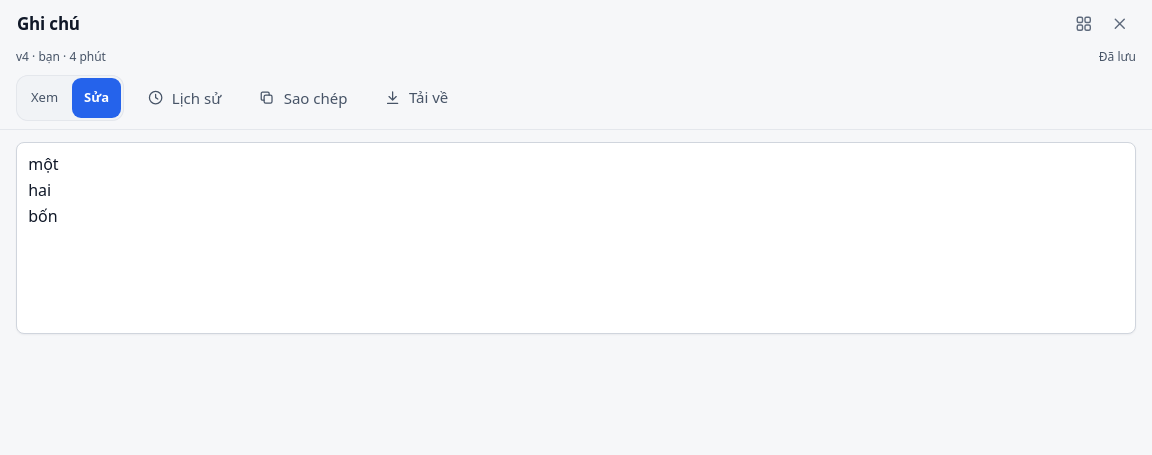
it: the versions of a canvas › lists each version, the newest first, and compares one with the version listed before it
Click the button "Lịch sử" at coordinates (184, 98), box [132,80,236,116]
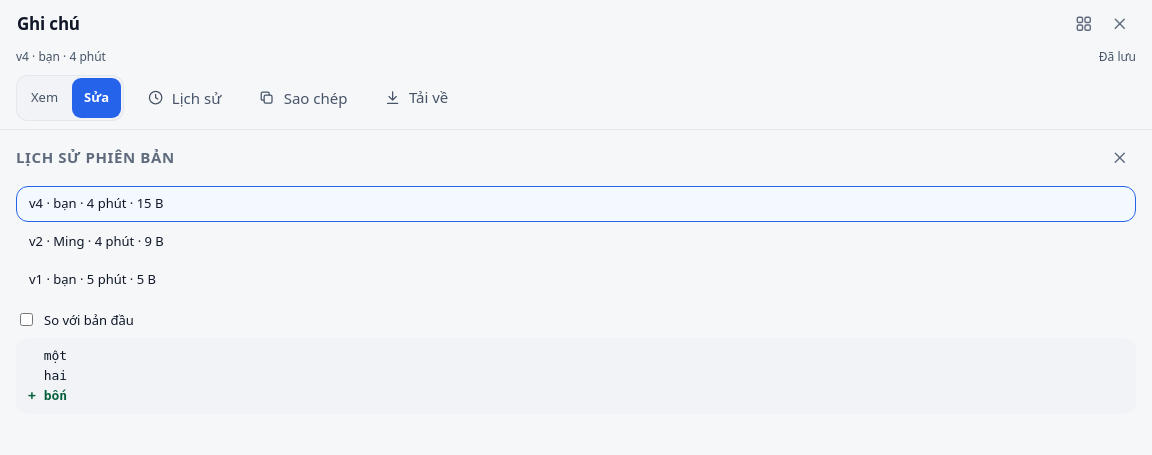
Expected: the button "Khôi phục bản này" is not shown
Now the element with class "canvas-diff" reads "một hai + bốn", box [16,338,1136,414]
Click the button "v2 · Ming · 4 phút · 9 B" at coordinates (96, 241), box [16,224,1136,260]
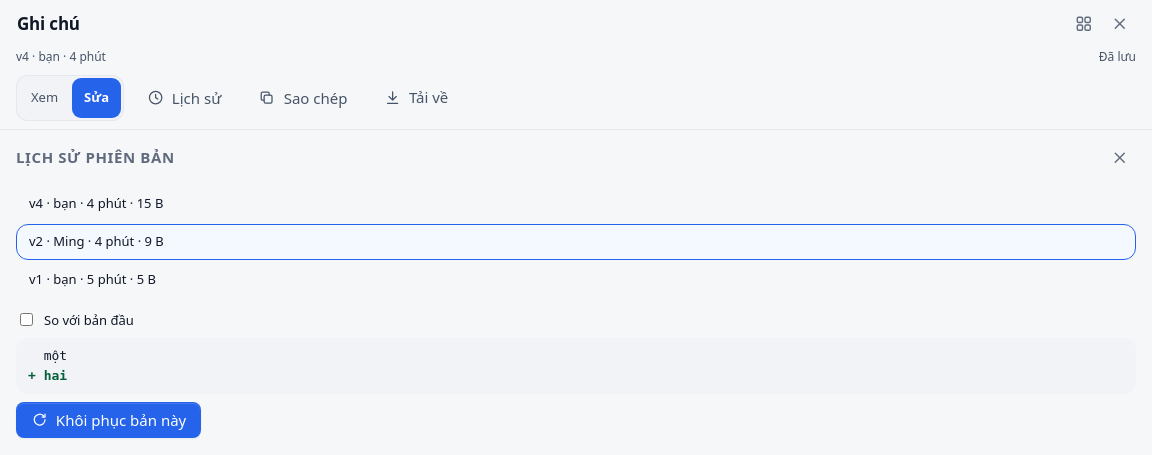
Now the element with class "canvas-diff" reads "một + hai", box [16,338,1136,394]
